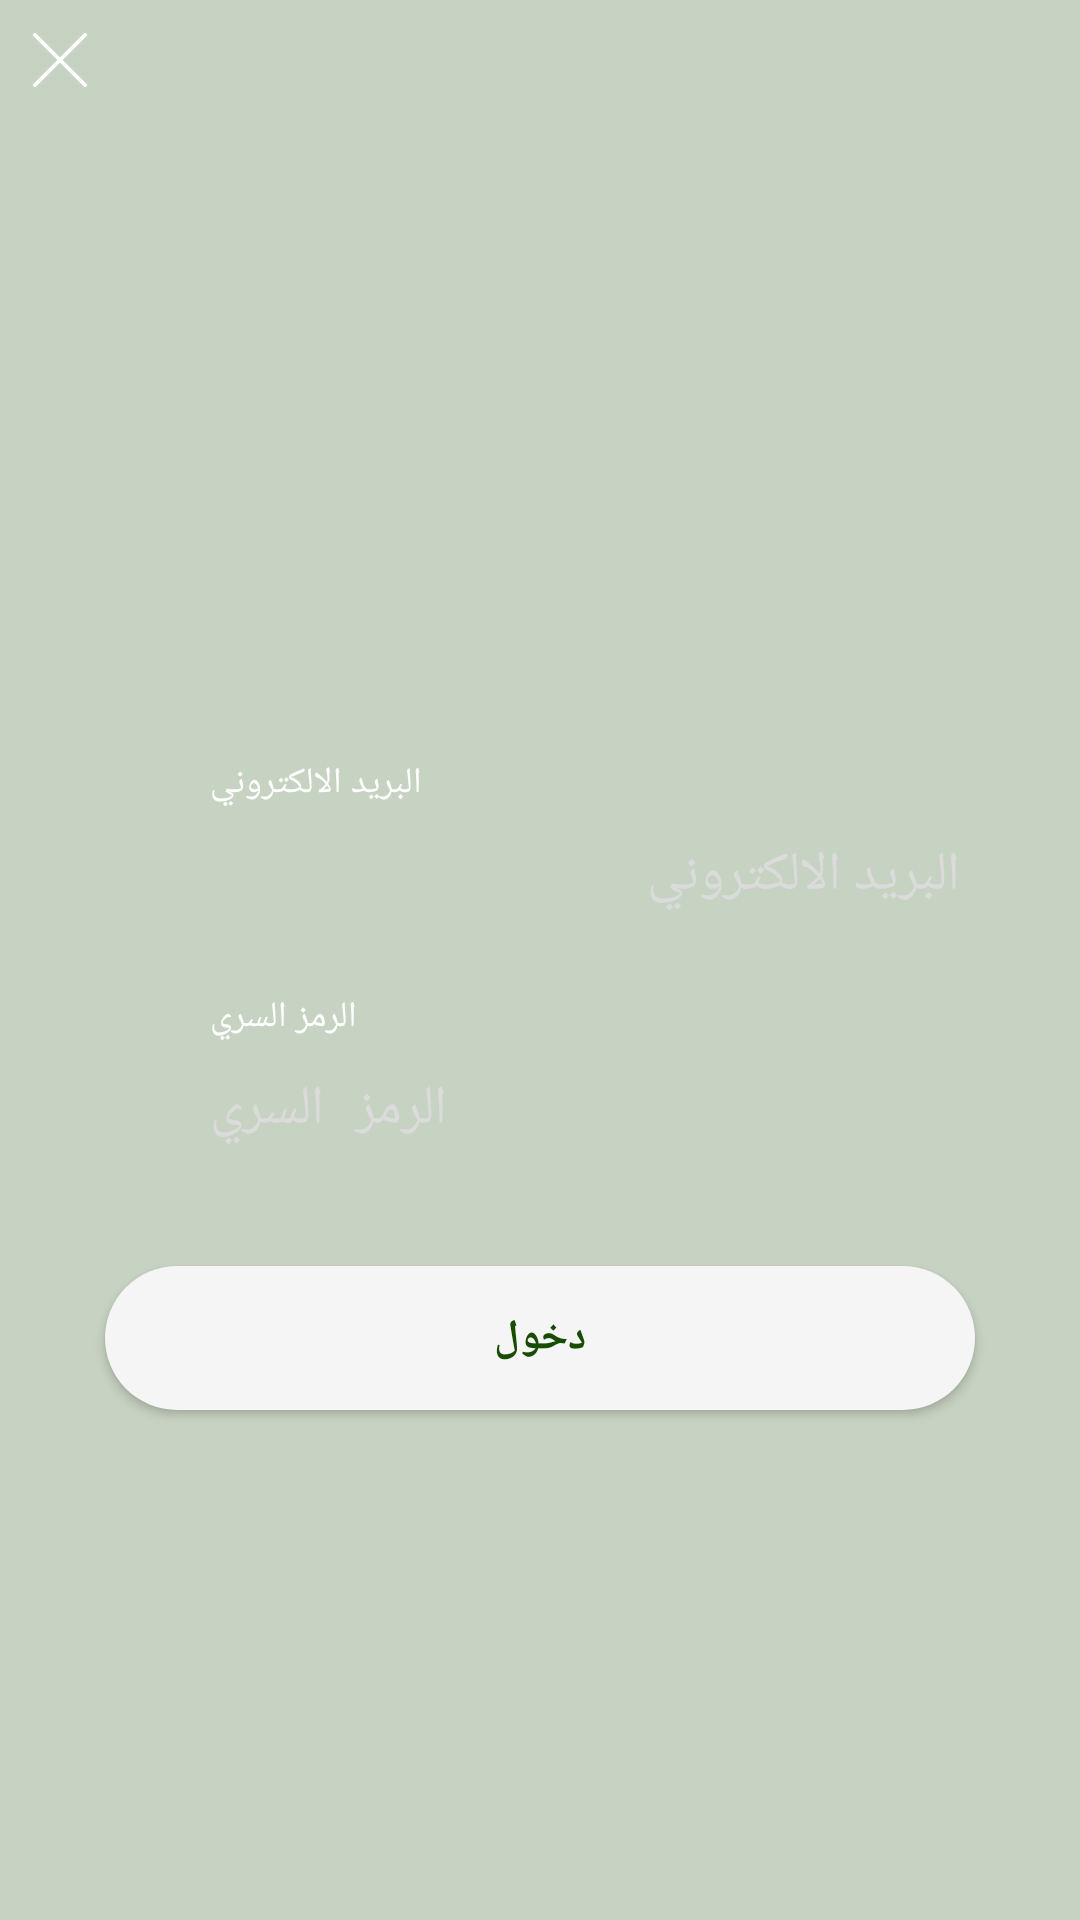

Where to tap for icons on this 1080w x 1920h app screen, as point (x, y):
close: point (60, 60)
